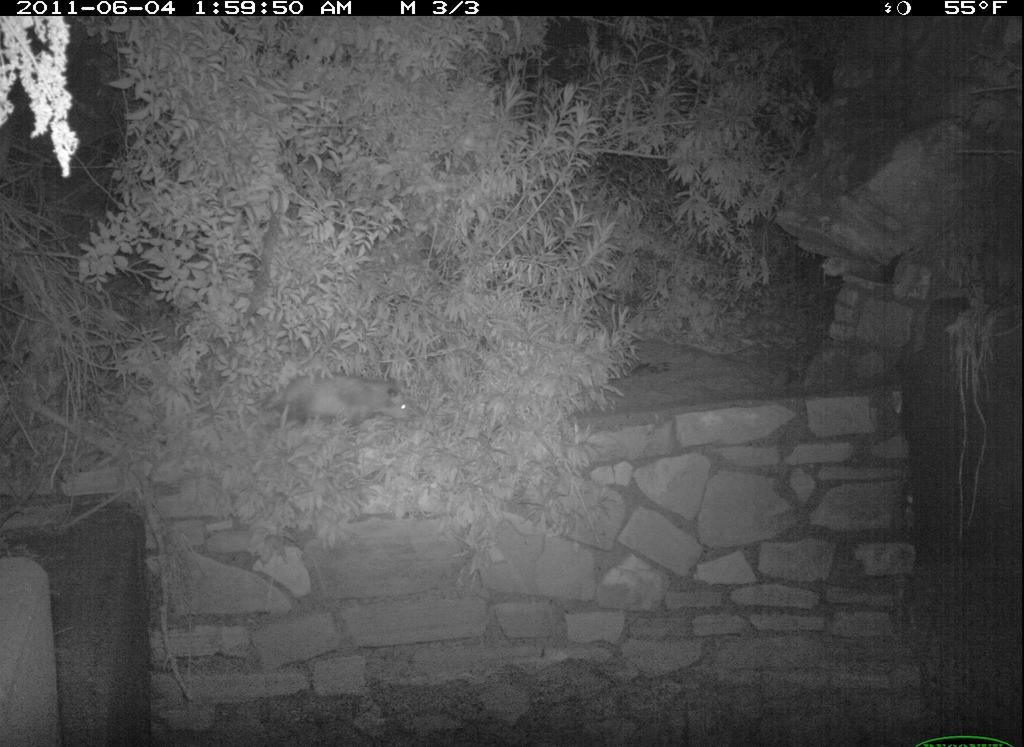opossum: (246, 368, 420, 437)
